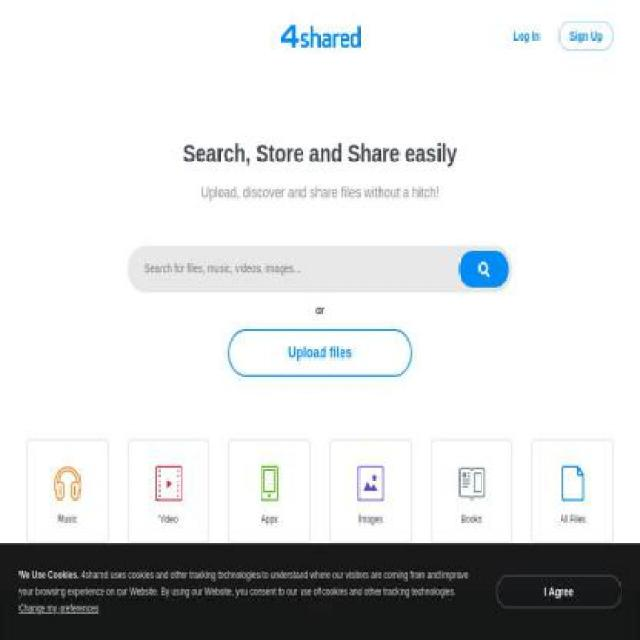button: (328, 440, 412, 542), (127, 440, 210, 542), (430, 440, 513, 542), (228, 440, 310, 542), (27, 440, 108, 542), (532, 440, 613, 542), (558, 20, 614, 52), (502, 20, 552, 52)
field: (127, 245, 513, 293)
